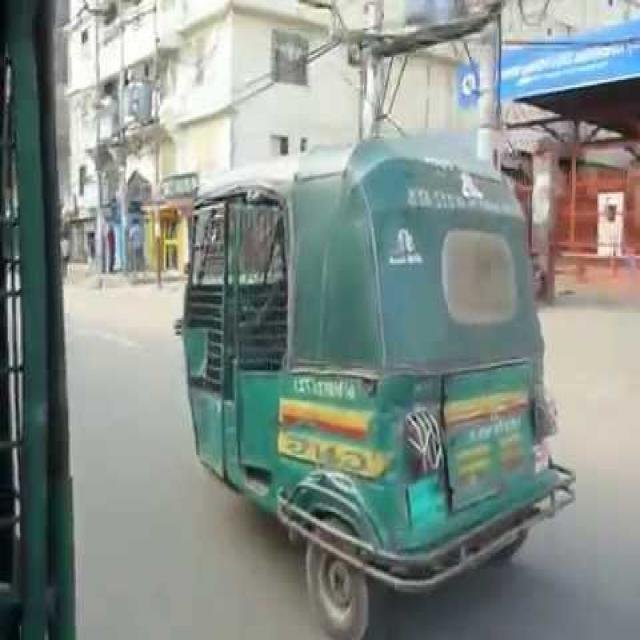CNG: (154, 121, 605, 640)
